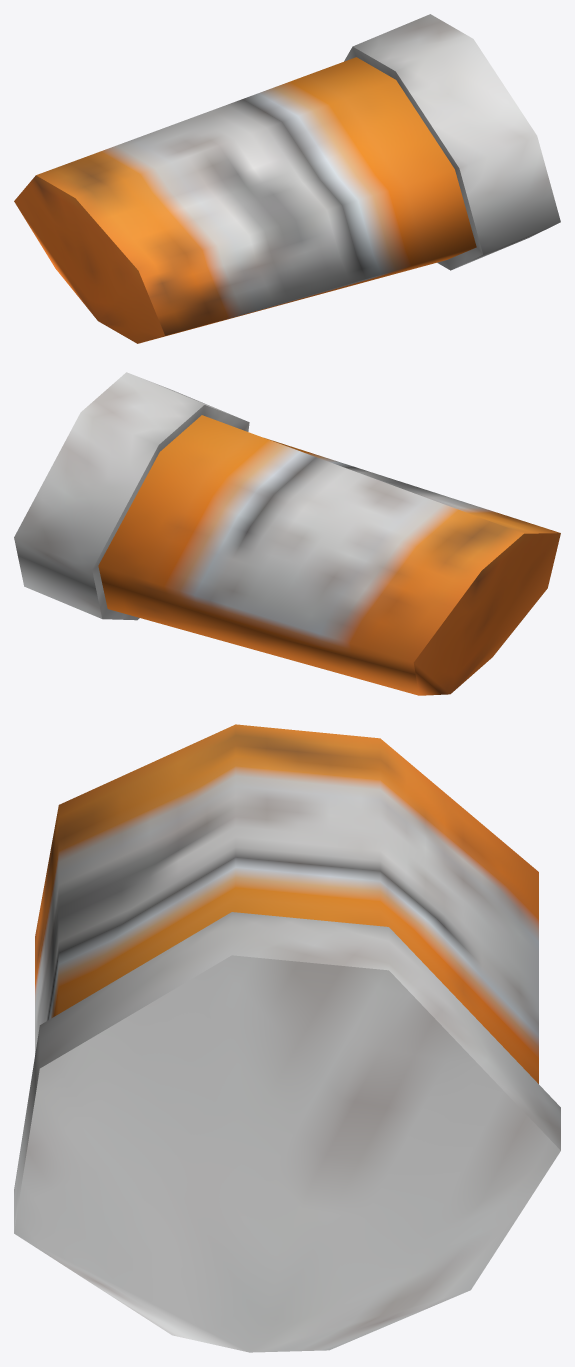
Rendered from MedicineBottle_01.fbx.
3 renders of one model, top to bottom at view 1: azimuth 30°, elevation 25°; view 2: azimuth 150°, elevation 25°; view 3: azimuth 270°, elevation 25°, orthographic. The views are drawn at different scales.
Parts seen in each view (by area): view 1: MedicineBottle_01; view 2: MedicineBottle_01; view 3: MedicineBottle_01.
Boxes of the visible parts, box(x1,y1,x2,y2) form: MedicineBottle_01: box(14, 14, 560, 343); MedicineBottle_01: box(14, 372, 560, 695); MedicineBottle_01: box(14, 724, 560, 1352).
Size of the model in its own units: 0.0518 by 0.0247 by 0.0318.
